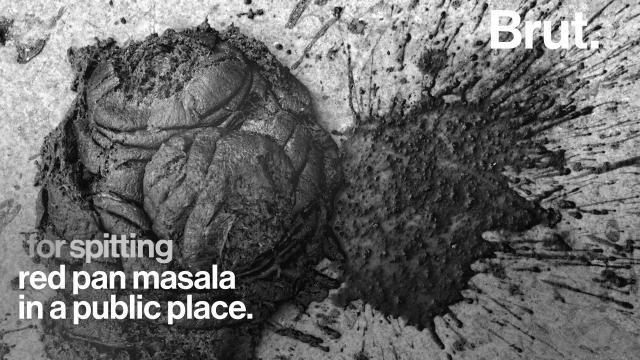spit: (342, 100, 546, 324)
